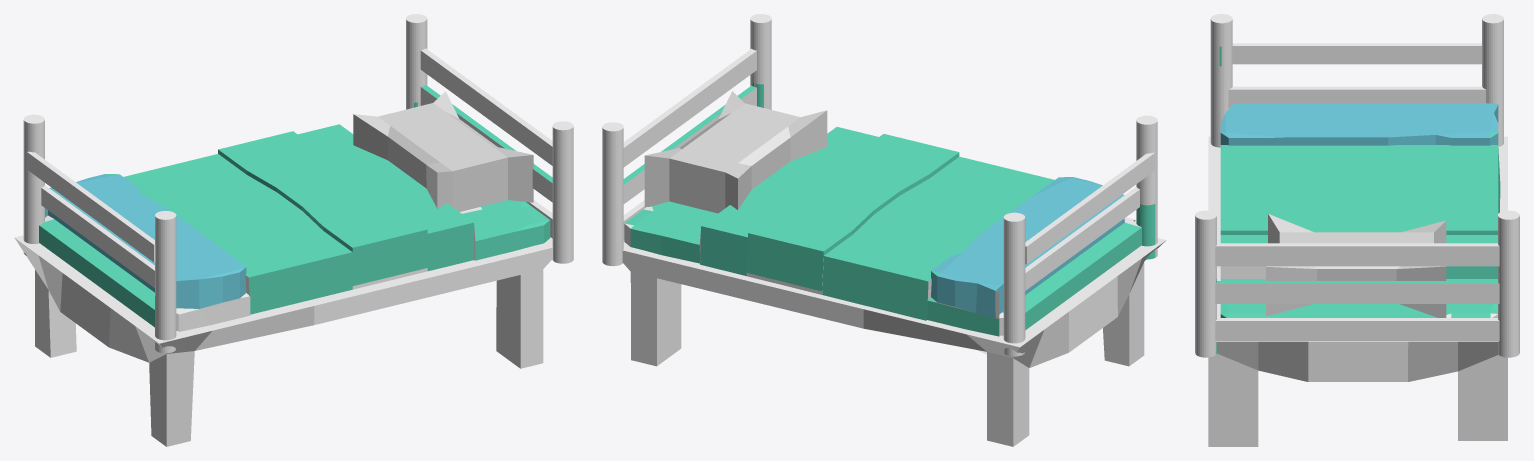
File: Hospital_Bed_1.fbx
3 renders of one model, left to right at view 1: azimuth 30°, elevation 25°; view 2: azimuth 150°, elevation 25°; view 3: azimuth 270°, elevation 25°, orthographic. The views are drawn at different scales.
Parts seen in each view (by area): view 1: Cube.004; view 2: Cube.004; view 3: Cube.004.
Part boxes in pixels (box(x1,y1,x2,y2)): Cube.004: box(14, 14, 573, 446); Cube.004: box(602, 14, 1166, 446); Cube.004: box(1195, 14, 1519, 446).
Bounding box in the file's own units: 4484 × 2424 × 2955.
